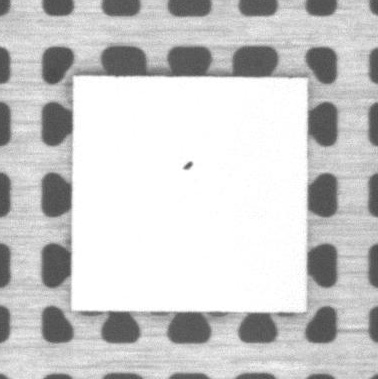DIE_INK: (184, 159, 193, 171)
